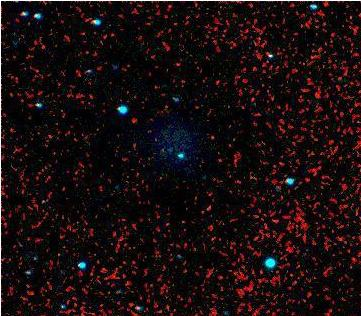star: (120, 105, 150, 135)
